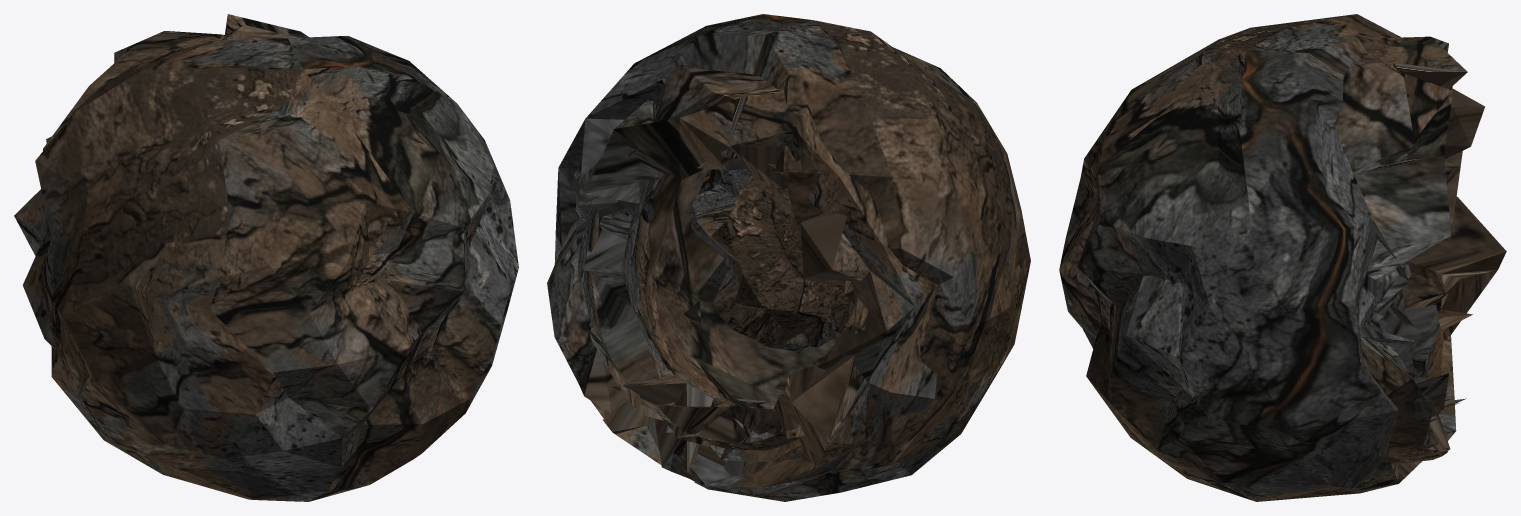
The model's file is PlanetaDestruido.obj.
3 views of the same model, side by side, from view 1: azimuth 30°, elevation 25°; view 2: azimuth 150°, elevation 25°; view 3: azimuth 270°, elevation 25° (orthographic).
Visible parts, largest first — view 1: Icosphere; view 2: Icosphere, Icosphere.001; view 3: Icosphere.
Boxes of the visible parts, x1,y1,x2,y2 form: Icosphere: [14, 14, 518, 501]; Icosphere: [547, 14, 1030, 501]; Icosphere.001: [690, 169, 850, 350]; Icosphere: [1059, 14, 1506, 501].
Bounding box in the file's own units: 5.95 × 5.85 × 5.44.
Materials: 1 (1 with a texture image).
